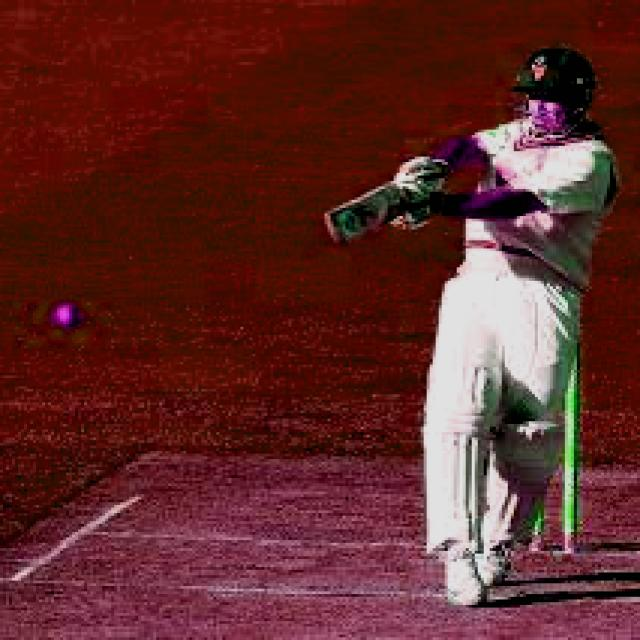toe: (321, 205, 357, 251)
